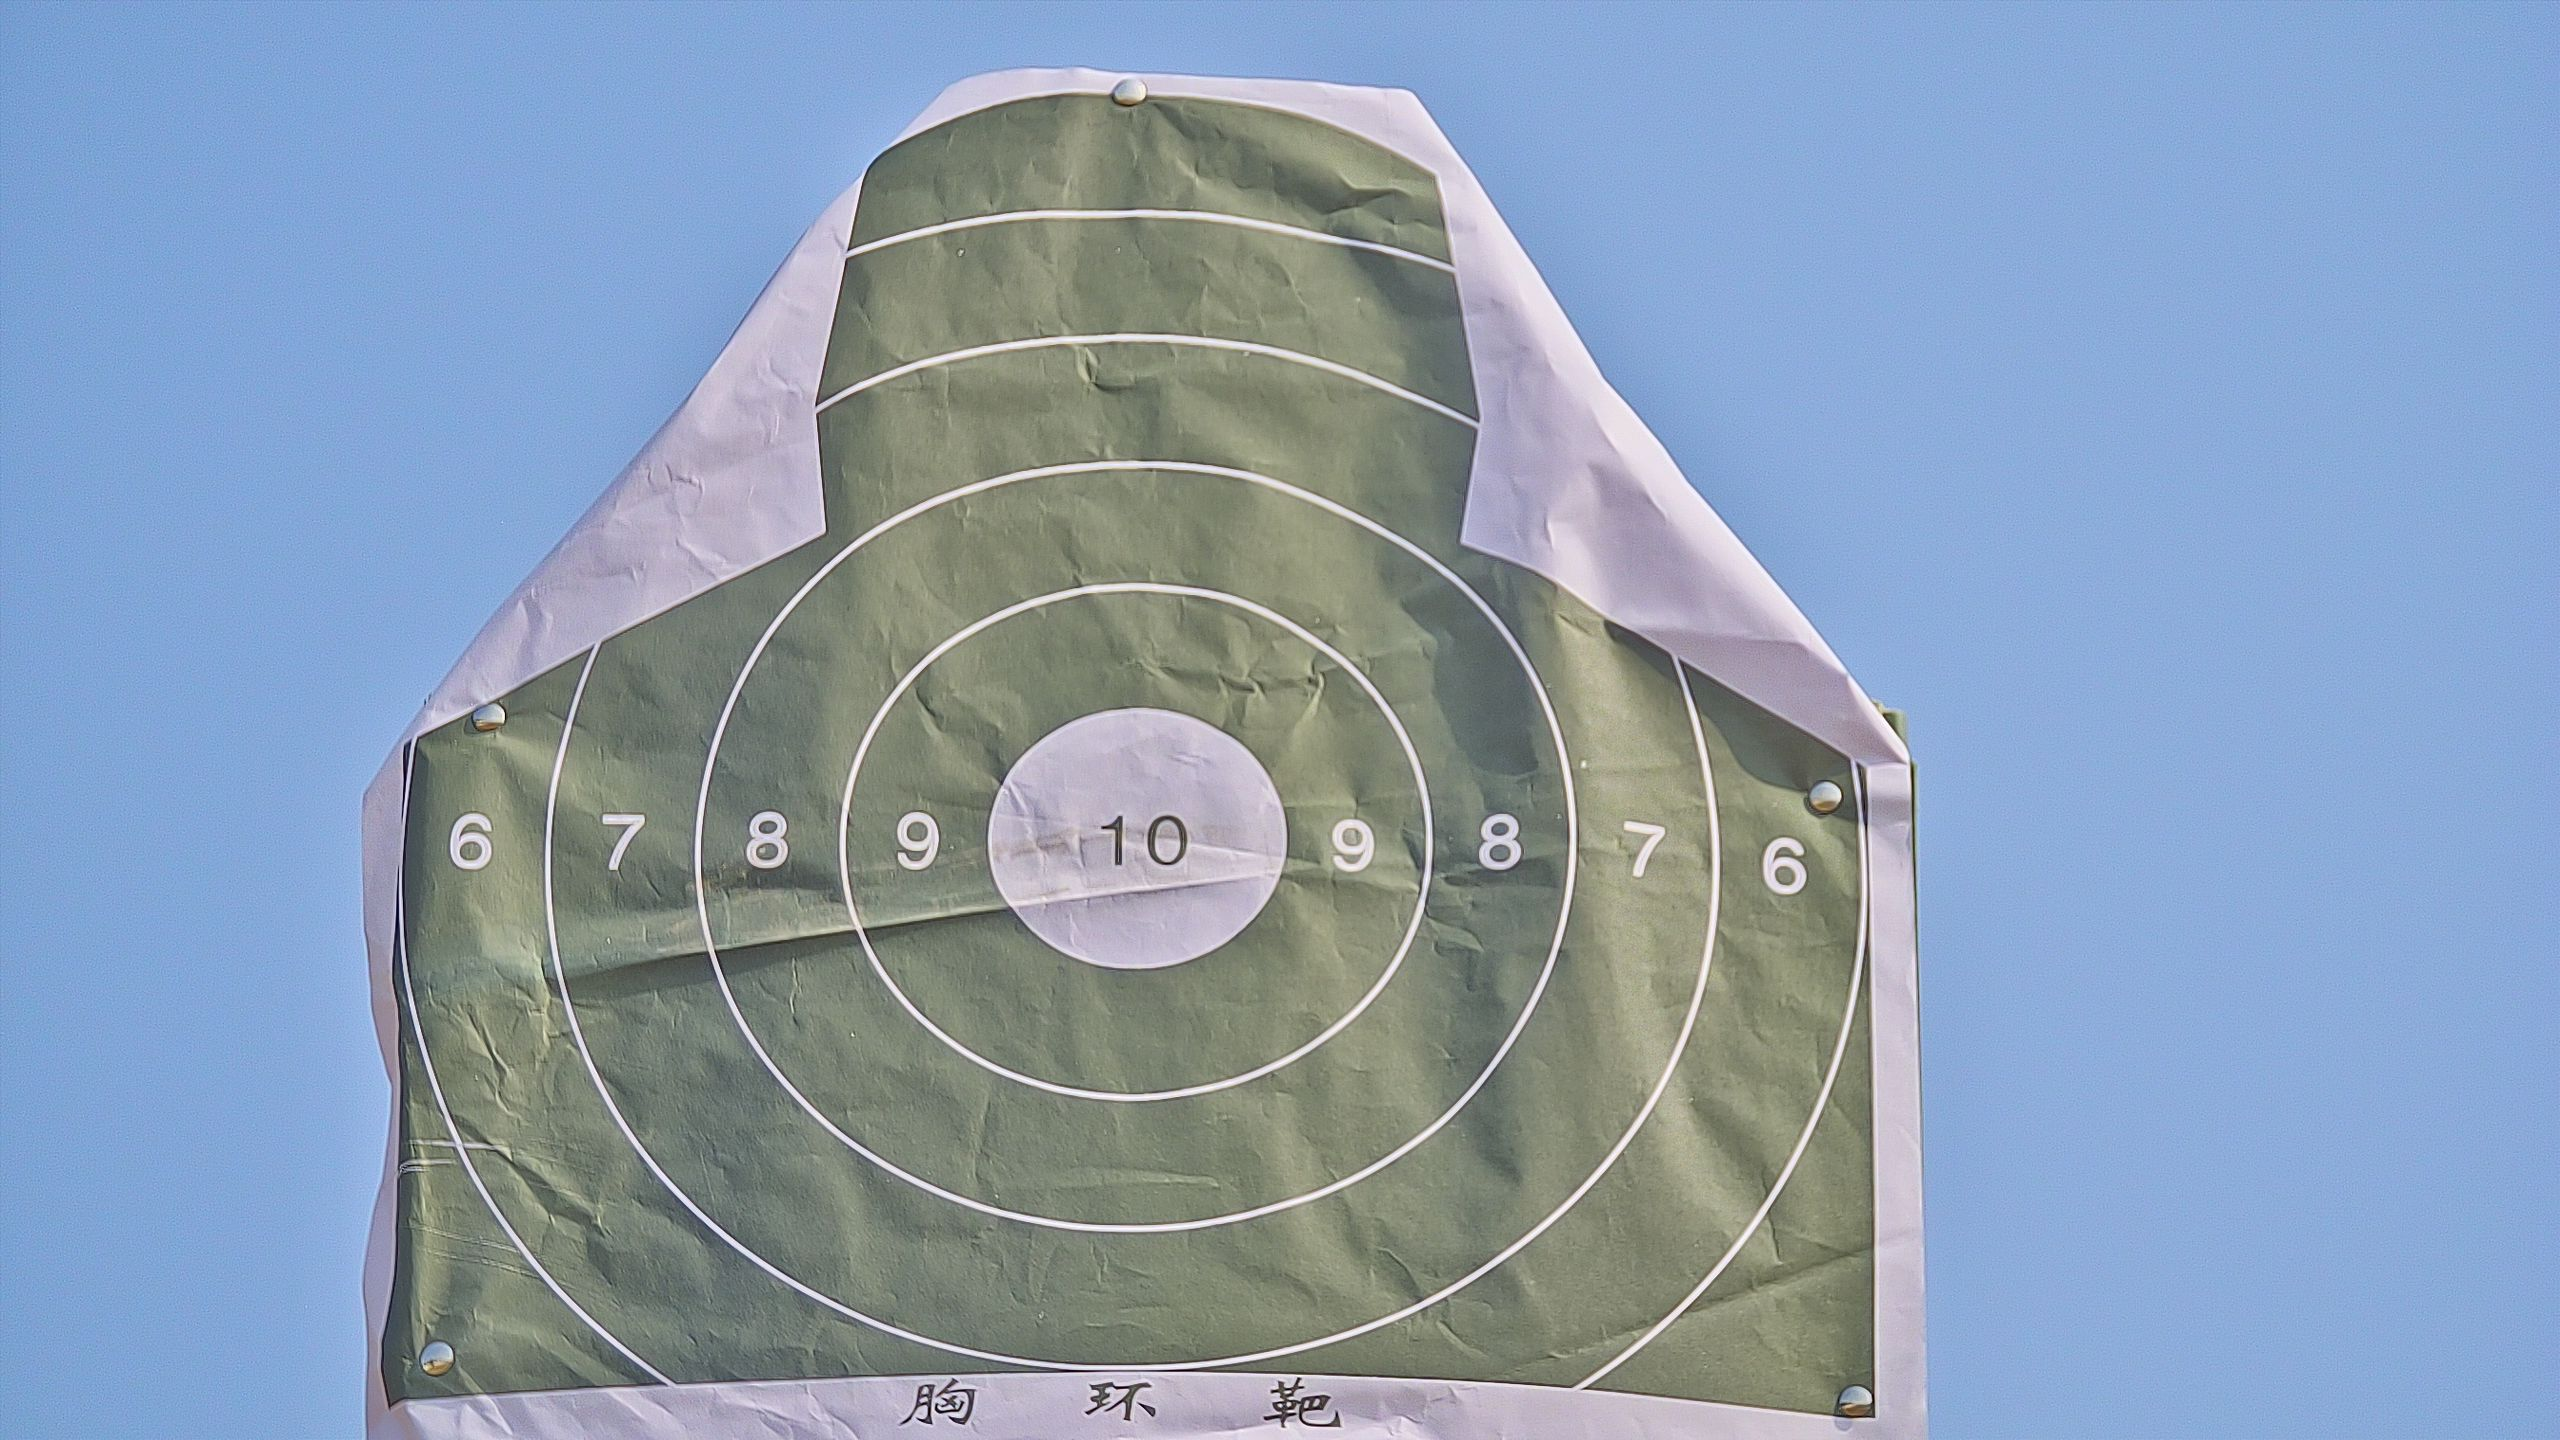target: (390, 84, 1873, 1440)
ten: (983, 705, 1291, 976)
